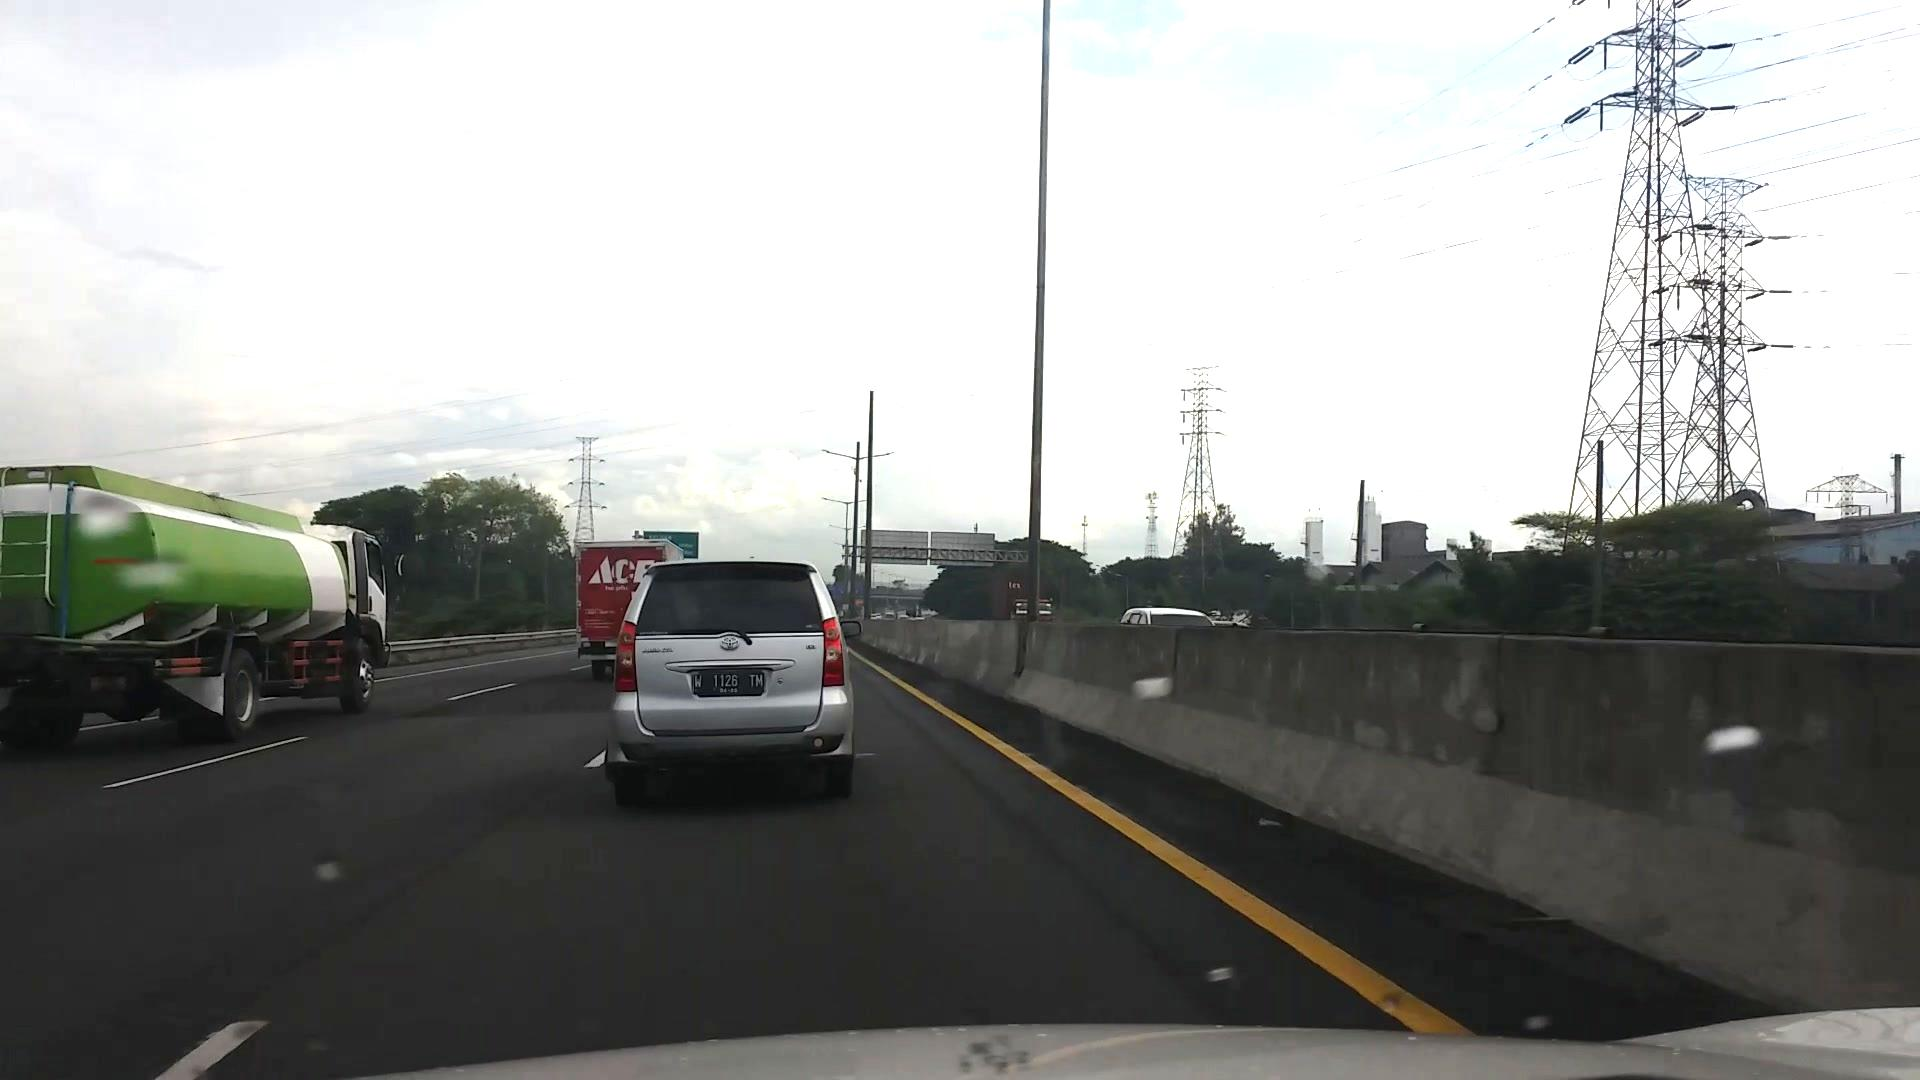plate_positive: (692, 670, 764, 696)
